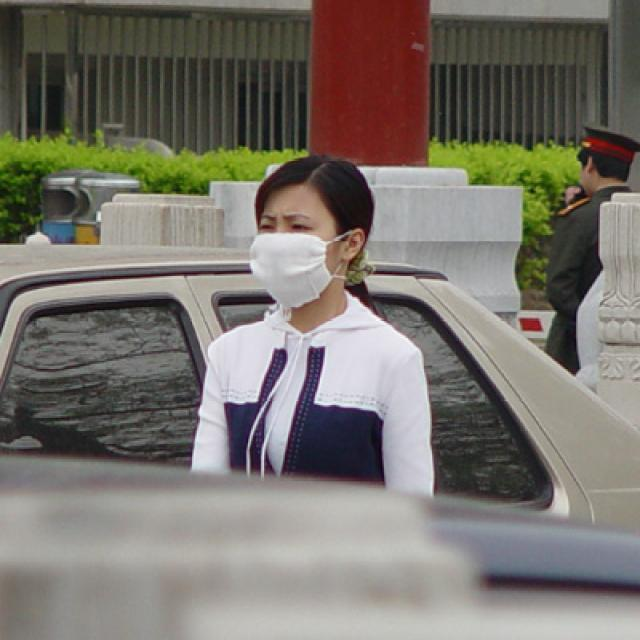mask: (253, 182, 339, 295)
